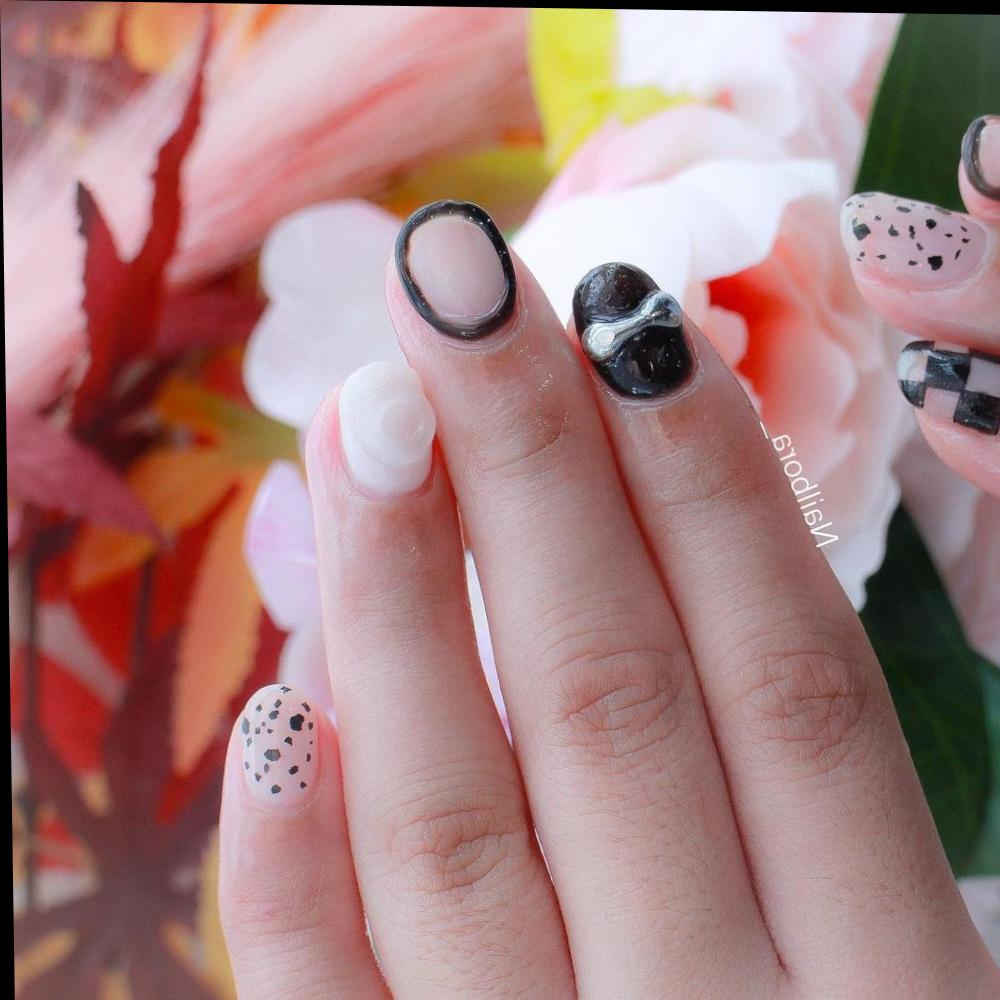nail: (393, 196, 520, 343), (572, 259, 701, 403), (840, 188, 992, 293), (337, 359, 439, 499), (237, 680, 324, 816), (896, 337, 1000, 440), (960, 110, 1000, 203)
